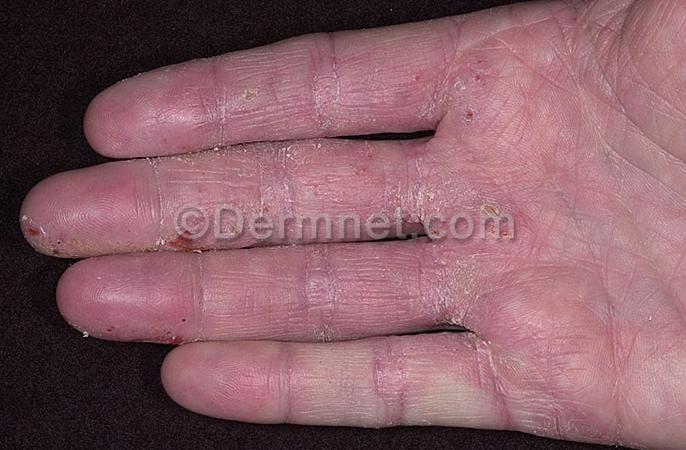exudacion 1: (116, 316, 188, 352), (24, 205, 45, 256)
exudacion 2: (156, 213, 220, 255)
xerosis 3: (46, 0, 530, 450)
